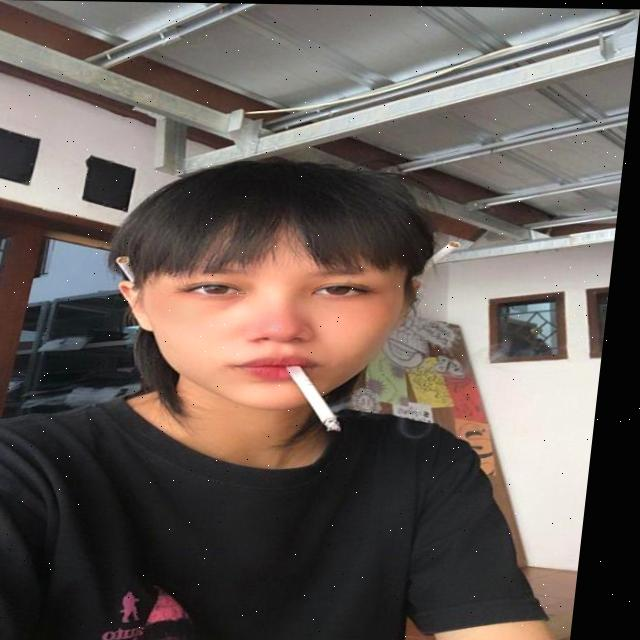cigarette: (291, 364, 358, 430)
